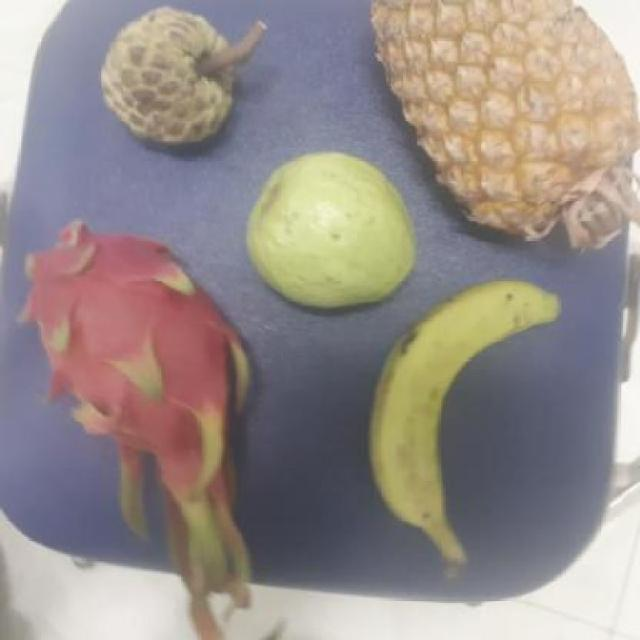banana: (366, 284, 554, 531)
dragon fruit: (16, 228, 252, 522)
guava: (240, 152, 415, 303)
pineapple: (378, 0, 628, 248)
sugar apple: (96, 8, 247, 150)
